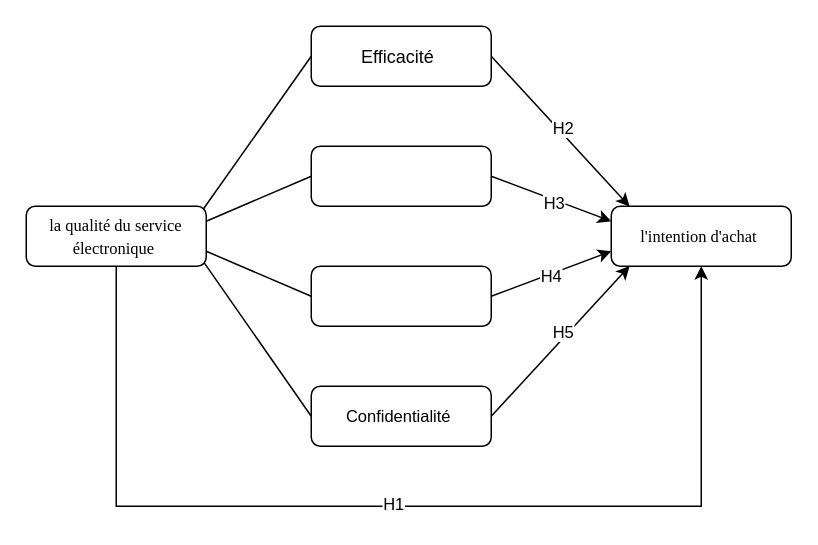
This 818x545 diagram has some shape labels left out. The centre of each missing label's shape, as x and y in pixels:
"Disponibilité du système" belongs at (x=400, y=175).
"Réalisation" belongs at (x=400, y=295).
